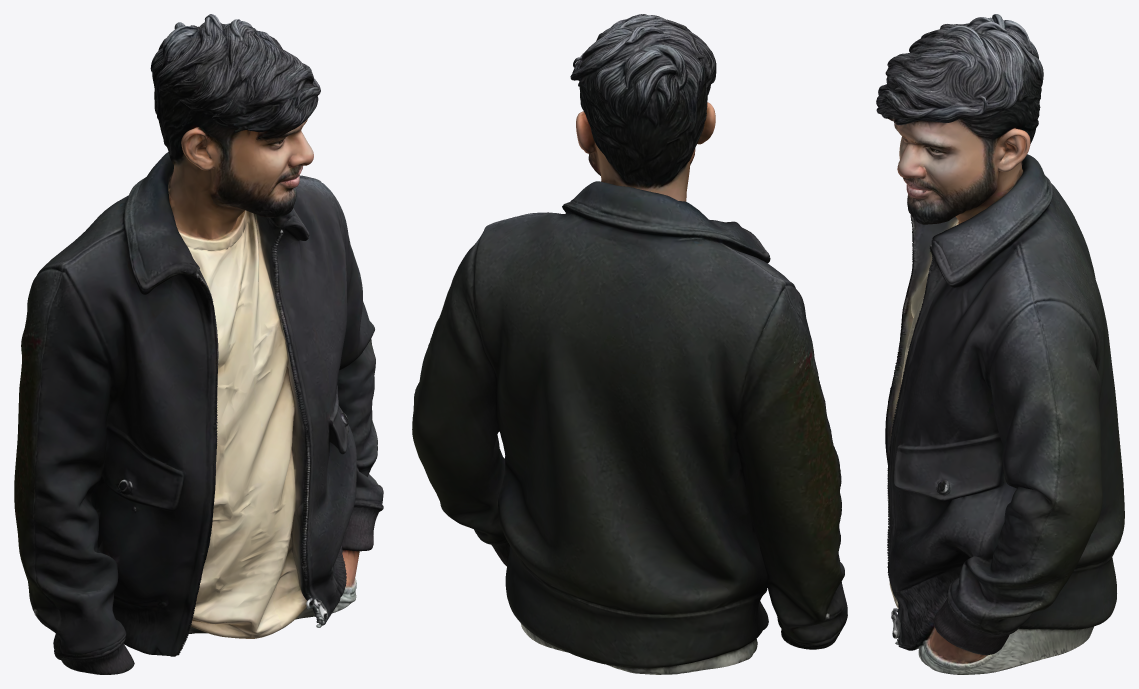
Rendered from human.glb.
The picture shows the model from 3 angles, left to right: view 1: azimuth 30°, elevation 25°; view 2: azimuth 150°, elevation 25°; view 3: azimuth 270°, elevation 25°; orthographic projection.
Visible parts, largest first — view 1: tripo_node_79d26b17-c99b-44f0-b8f9-bd2a7b25d259; view 2: tripo_node_79d26b17-c99b-44f0-b8f9-bd2a7b25d259; view 3: tripo_node_79d26b17-c99b-44f0-b8f9-bd2a7b25d259.
Part boxes in pixels (<box>): tripo_node_79d26b17-c99b-44f0-b8f9-bd2a7b25d259: <box>14,14,383,674</box>; tripo_node_79d26b17-c99b-44f0-b8f9-bd2a7b25d259: <box>412,14,847,674</box>; tripo_node_79d26b17-c99b-44f0-b8f9-bd2a7b25d259: <box>876,14,1124,674</box>.
Bounding box in the file's own units: 0.6641 × 0.9781 × 0.3717.
Materials: 1 (1 with a texture image).
